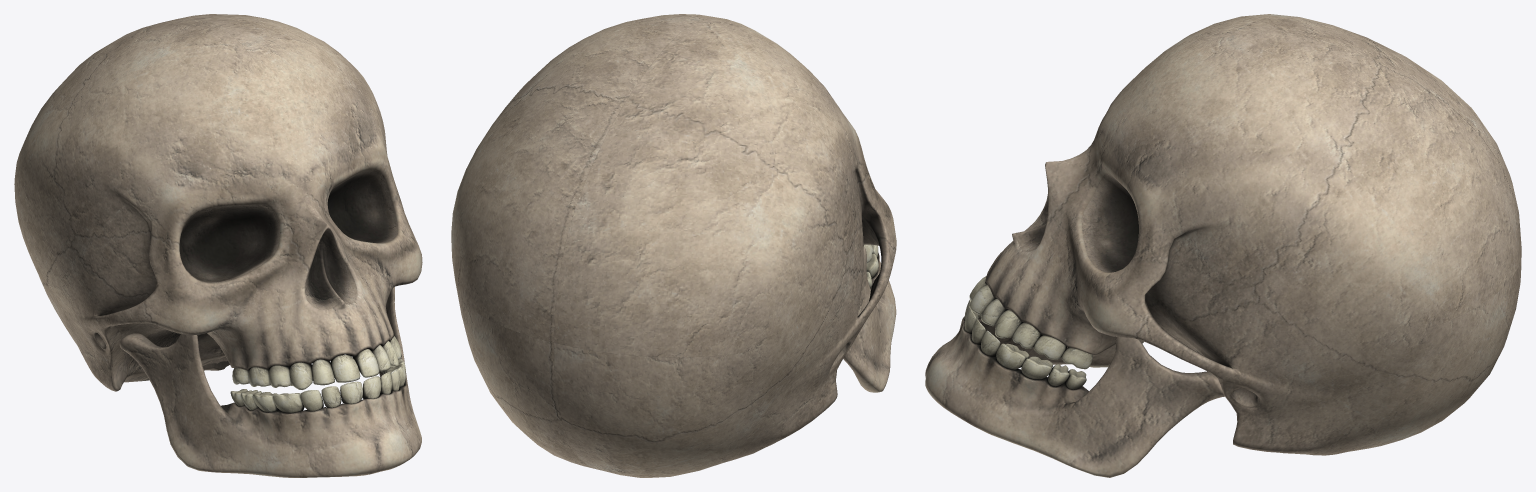
File: Skull.fbx
3 views of the same model, side by side, from view 1: azimuth 30°, elevation 25°; view 2: azimuth 150°, elevation 25°; view 3: azimuth 270°, elevation 25° (orthographic). The views are drawn at different scales.
Parts seen in each view (by area): view 1: default; view 2: default; view 3: default.
Boxes of the visible parts, x1,y1,x2,y2 form: default: (14, 14, 422, 477); default: (451, 14, 896, 477); default: (925, 14, 1521, 477).
Bounding box in the file's own units: 0.991 × 1.1 × 1.52.
